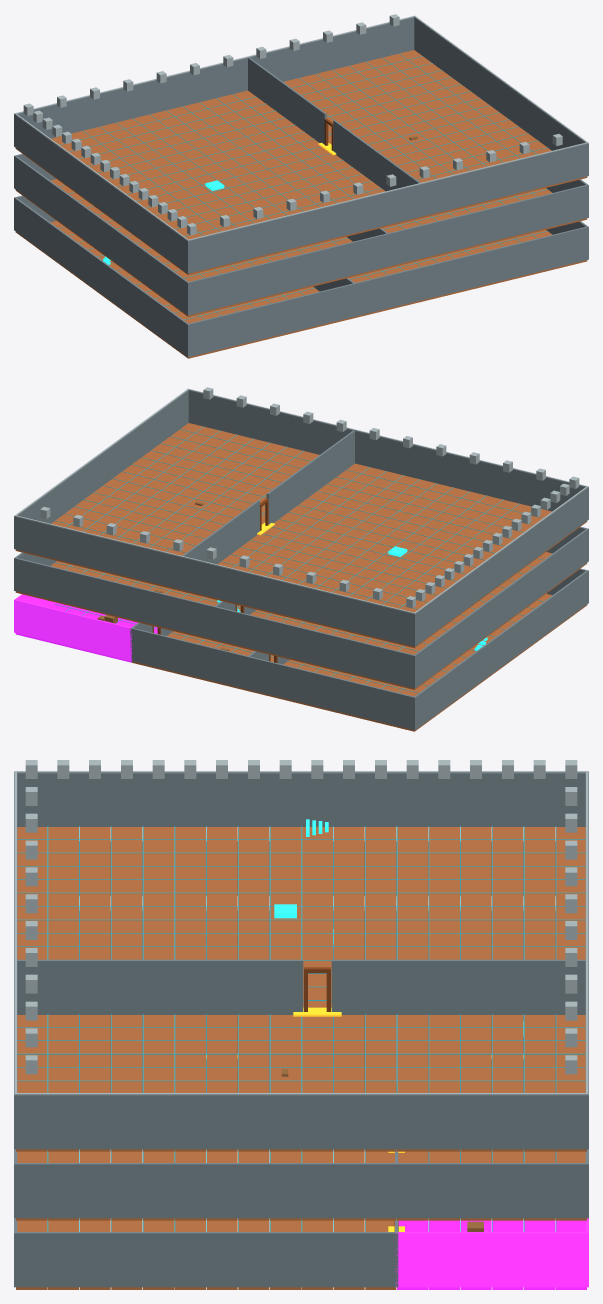
3 renders of one model, top to bottom at view 1: azimuth 30°, elevation 25°; view 2: azimuth 150°, elevation 25°; view 3: azimuth 270°, elevation 25°, orthographic. The views are drawn at different scales.
Parts seen in each view (by area): view 1: Floor_tower_l3_interior_floor_public, Walls_tower_l3_public, Walls_tower_l2_public, Walls_tower_l1_public, Grid_tower_l3_public, FacadeGrammar_tower, Floor_tower_l2_interior_floor_public, Floor_tower_l1_interior_floor_public, Grid_tower_l1_public, Grid_tower_l2_public; view 2: Floor_tower_l3_interior_floor_public, Walls_tower_l3_public, Walls_tower_l2_public, Walls_tower_l1_public, Grid_tower_l3_public, FacadeGrammar_tower, Floor_tower_l2_interior_floor_public, Walls_tower_l1_dm_only, Floor_tower_l1_interior_floor_public, Floor_tower_l1_secret_floor_dm_only, Grid_tower_l2_public; view 3: Floor_tower_l3_interior_floor_public, Walls_tower_l3_public, Walls_tower_l2_public, Walls_tower_l1_public, Grid_tower_l3_public, FacadeGrammar_tower, Walls_tower_l1_dm_only, Floor_tower_l2_interior_floor_public, Floor_tower_l1_interior_floor_public, Floor_tower_l1_secret_floor_dm_only.
Part boxes in pixels (bbox=[...]): Floor_tower_l3_interior_floor_public: bbox=[15, 50, 587, 274]; Walls_tower_l3_public: bbox=[14, 17, 588, 273]; Walls_tower_l2_public: bbox=[14, 153, 588, 315]; Walls_tower_l1_public: bbox=[14, 195, 588, 357]; Grid_tower_l3_public: bbox=[59, 53, 547, 236]; FacadeGrammar_tower: bbox=[14, 14, 588, 240]; Floor_tower_l2_interior_floor_public: bbox=[15, 179, 587, 316]; Floor_tower_l1_interior_floor_public: bbox=[15, 220, 587, 358]; Grid_tower_l1_public: bbox=[59, 227, 547, 319]; Grid_tower_l2_public: bbox=[59, 185, 547, 278]; Floor_tower_l3_interior_floor_public: bbox=[15, 423, 587, 647]; Walls_tower_l3_public: bbox=[14, 390, 588, 646]; Walls_tower_l2_public: bbox=[14, 526, 588, 688]; Walls_tower_l1_public: bbox=[130, 568, 588, 730]; Grid_tower_l3_public: bbox=[55, 426, 542, 609]; FacadeGrammar_tower: bbox=[14, 387, 588, 613]; Floor_tower_l2_interior_floor_public: bbox=[15, 552, 587, 689]; Walls_tower_l1_dm_only: bbox=[14, 594, 132, 660]; Floor_tower_l1_interior_floor_public: bbox=[132, 593, 587, 731]; Floor_tower_l1_secret_floor_dm_only: bbox=[15, 603, 157, 662]; Grid_tower_l2_public: bbox=[55, 558, 543, 651]; Floor_tower_l3_interior_floor_public: bbox=[16, 827, 586, 1151]; Walls_tower_l3_public: bbox=[14, 771, 588, 1149]; Walls_tower_l2_public: bbox=[14, 841, 588, 1218]; Walls_tower_l1_public: bbox=[14, 910, 555, 1287]; Grid_tower_l3_public: bbox=[17, 826, 585, 1092]; FacadeGrammar_tower: bbox=[14, 760, 588, 1094]; Walls_tower_l1_dm_only: bbox=[395, 1218, 588, 1287]; Floor_tower_l2_interior_floor_public: bbox=[16, 1151, 586, 1220]; Floor_tower_l1_interior_floor_public: bbox=[16, 1220, 396, 1289]; Floor_tower_l1_secret_floor_dm_only: bbox=[397, 1220, 586, 1289].
Bounding box in the file's own units: 24.11 × 7.37 × 18.11.
